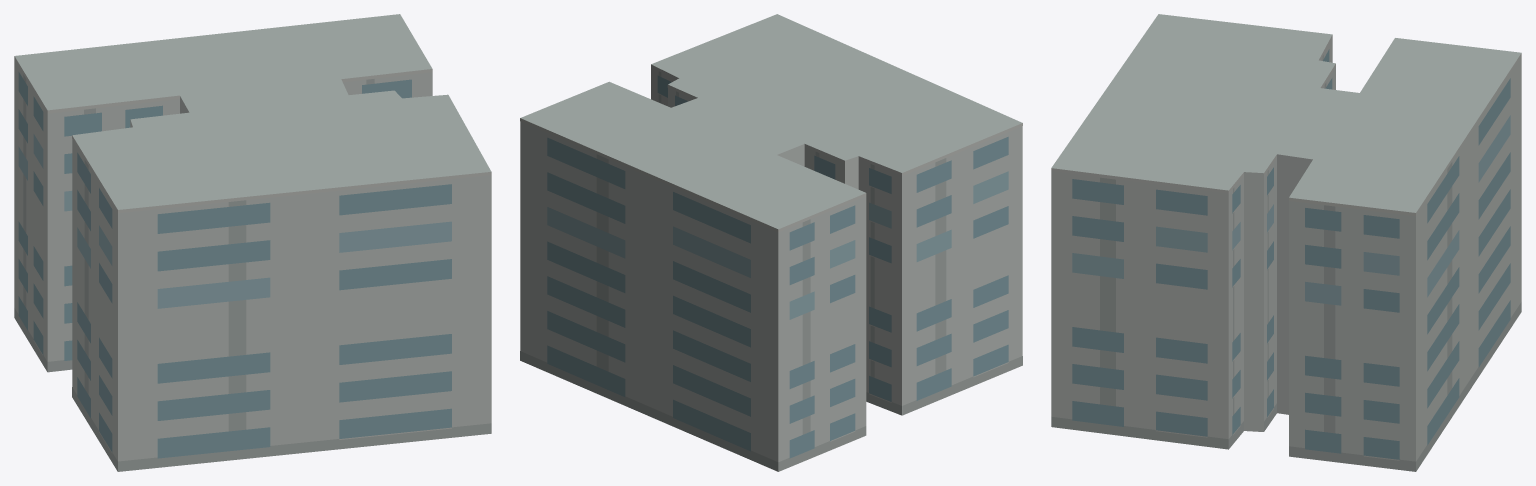
Rendered from survey-upis-32958997.glb.
3 renders of one model, left to right at view 1: azimuth 30°, elevation 25°; view 2: azimuth 150°, elevation 25°; view 3: azimuth 270°, elevation 25°, orthographic. The views are drawn at different scales.
Visible parts, largest first — view 1: survey-upis-32958997.tmp; view 2: survey-upis-32958997.tmp; view 3: survey-upis-32958997.tmp.
Boxes of the visible parts, <box> form: survey-upis-32958997.tmp: <box>14,14,491,471</box>; survey-upis-32958997.tmp: <box>520,14,1022,471</box>; survey-upis-32958997.tmp: <box>1051,14,1521,471</box>.
Bounding box in the file's own units: 31.16 × 18.9 × 31.13.
